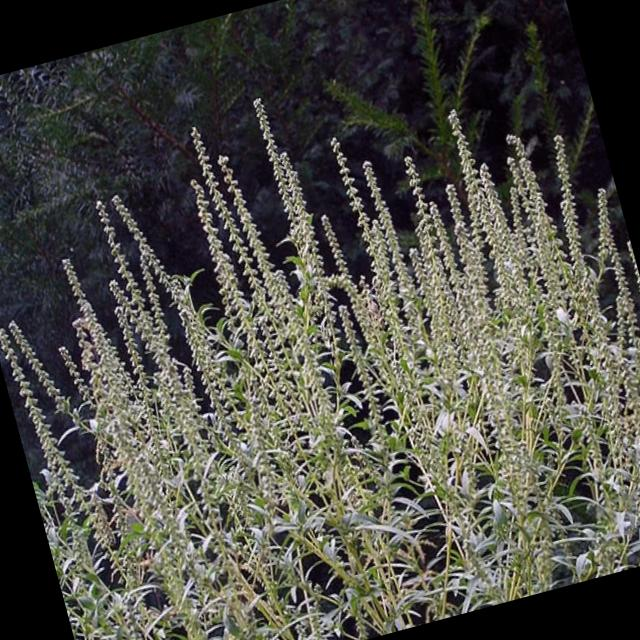ambrosia: (312, 64, 622, 374), (171, 98, 369, 578), (9, 172, 224, 455)
